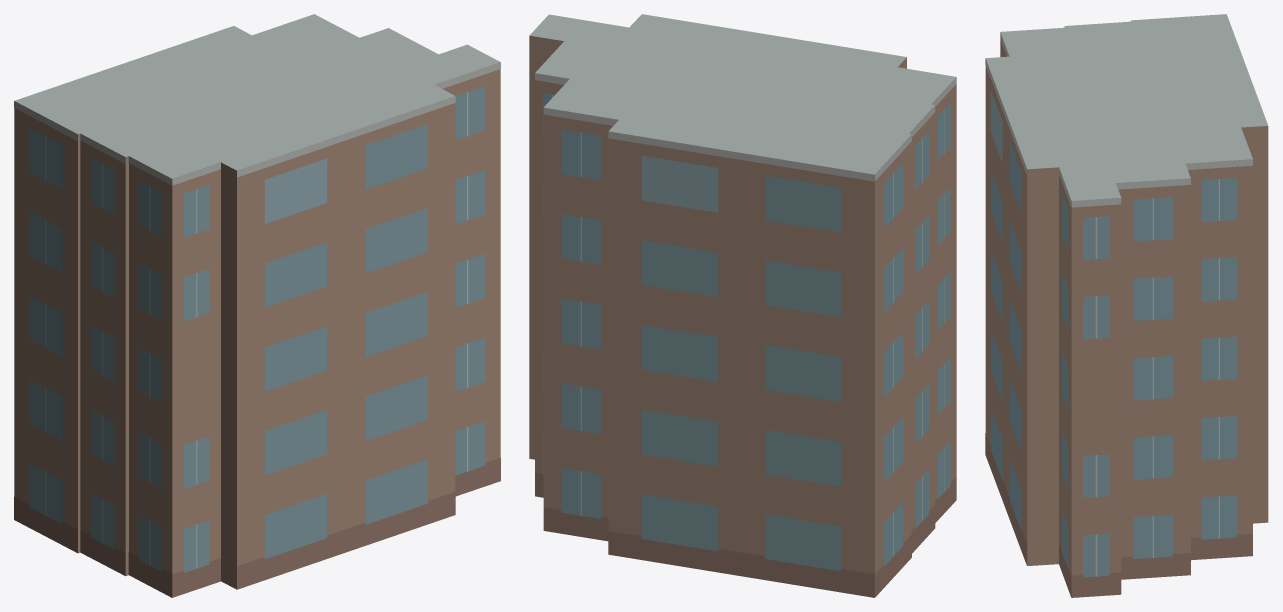
The model's file is survey-upis-32979855.glb.
The picture shows the model from 3 angles, left to right: view 1: azimuth 30°, elevation 25°; view 2: azimuth 150°, elevation 25°; view 3: azimuth 270°, elevation 25°; orthographic projection. The views are drawn at different scales.
Visible parts, largest first — view 1: survey-upis-32979855.tmp; view 2: survey-upis-32979855.tmp; view 3: survey-upis-32979855.tmp.
Boxes of the visible parts, x1=… form: survey-upis-32979855.tmp: x1=14, y1=14, x2=500, y2=597; survey-upis-32979855.tmp: x1=529, y1=14, x2=956, y2=597; survey-upis-32979855.tmp: x1=985, y1=14, x2=1268, y2=597.
Size of the model in its own units: 14.97 by 14.8 by 9.57.
